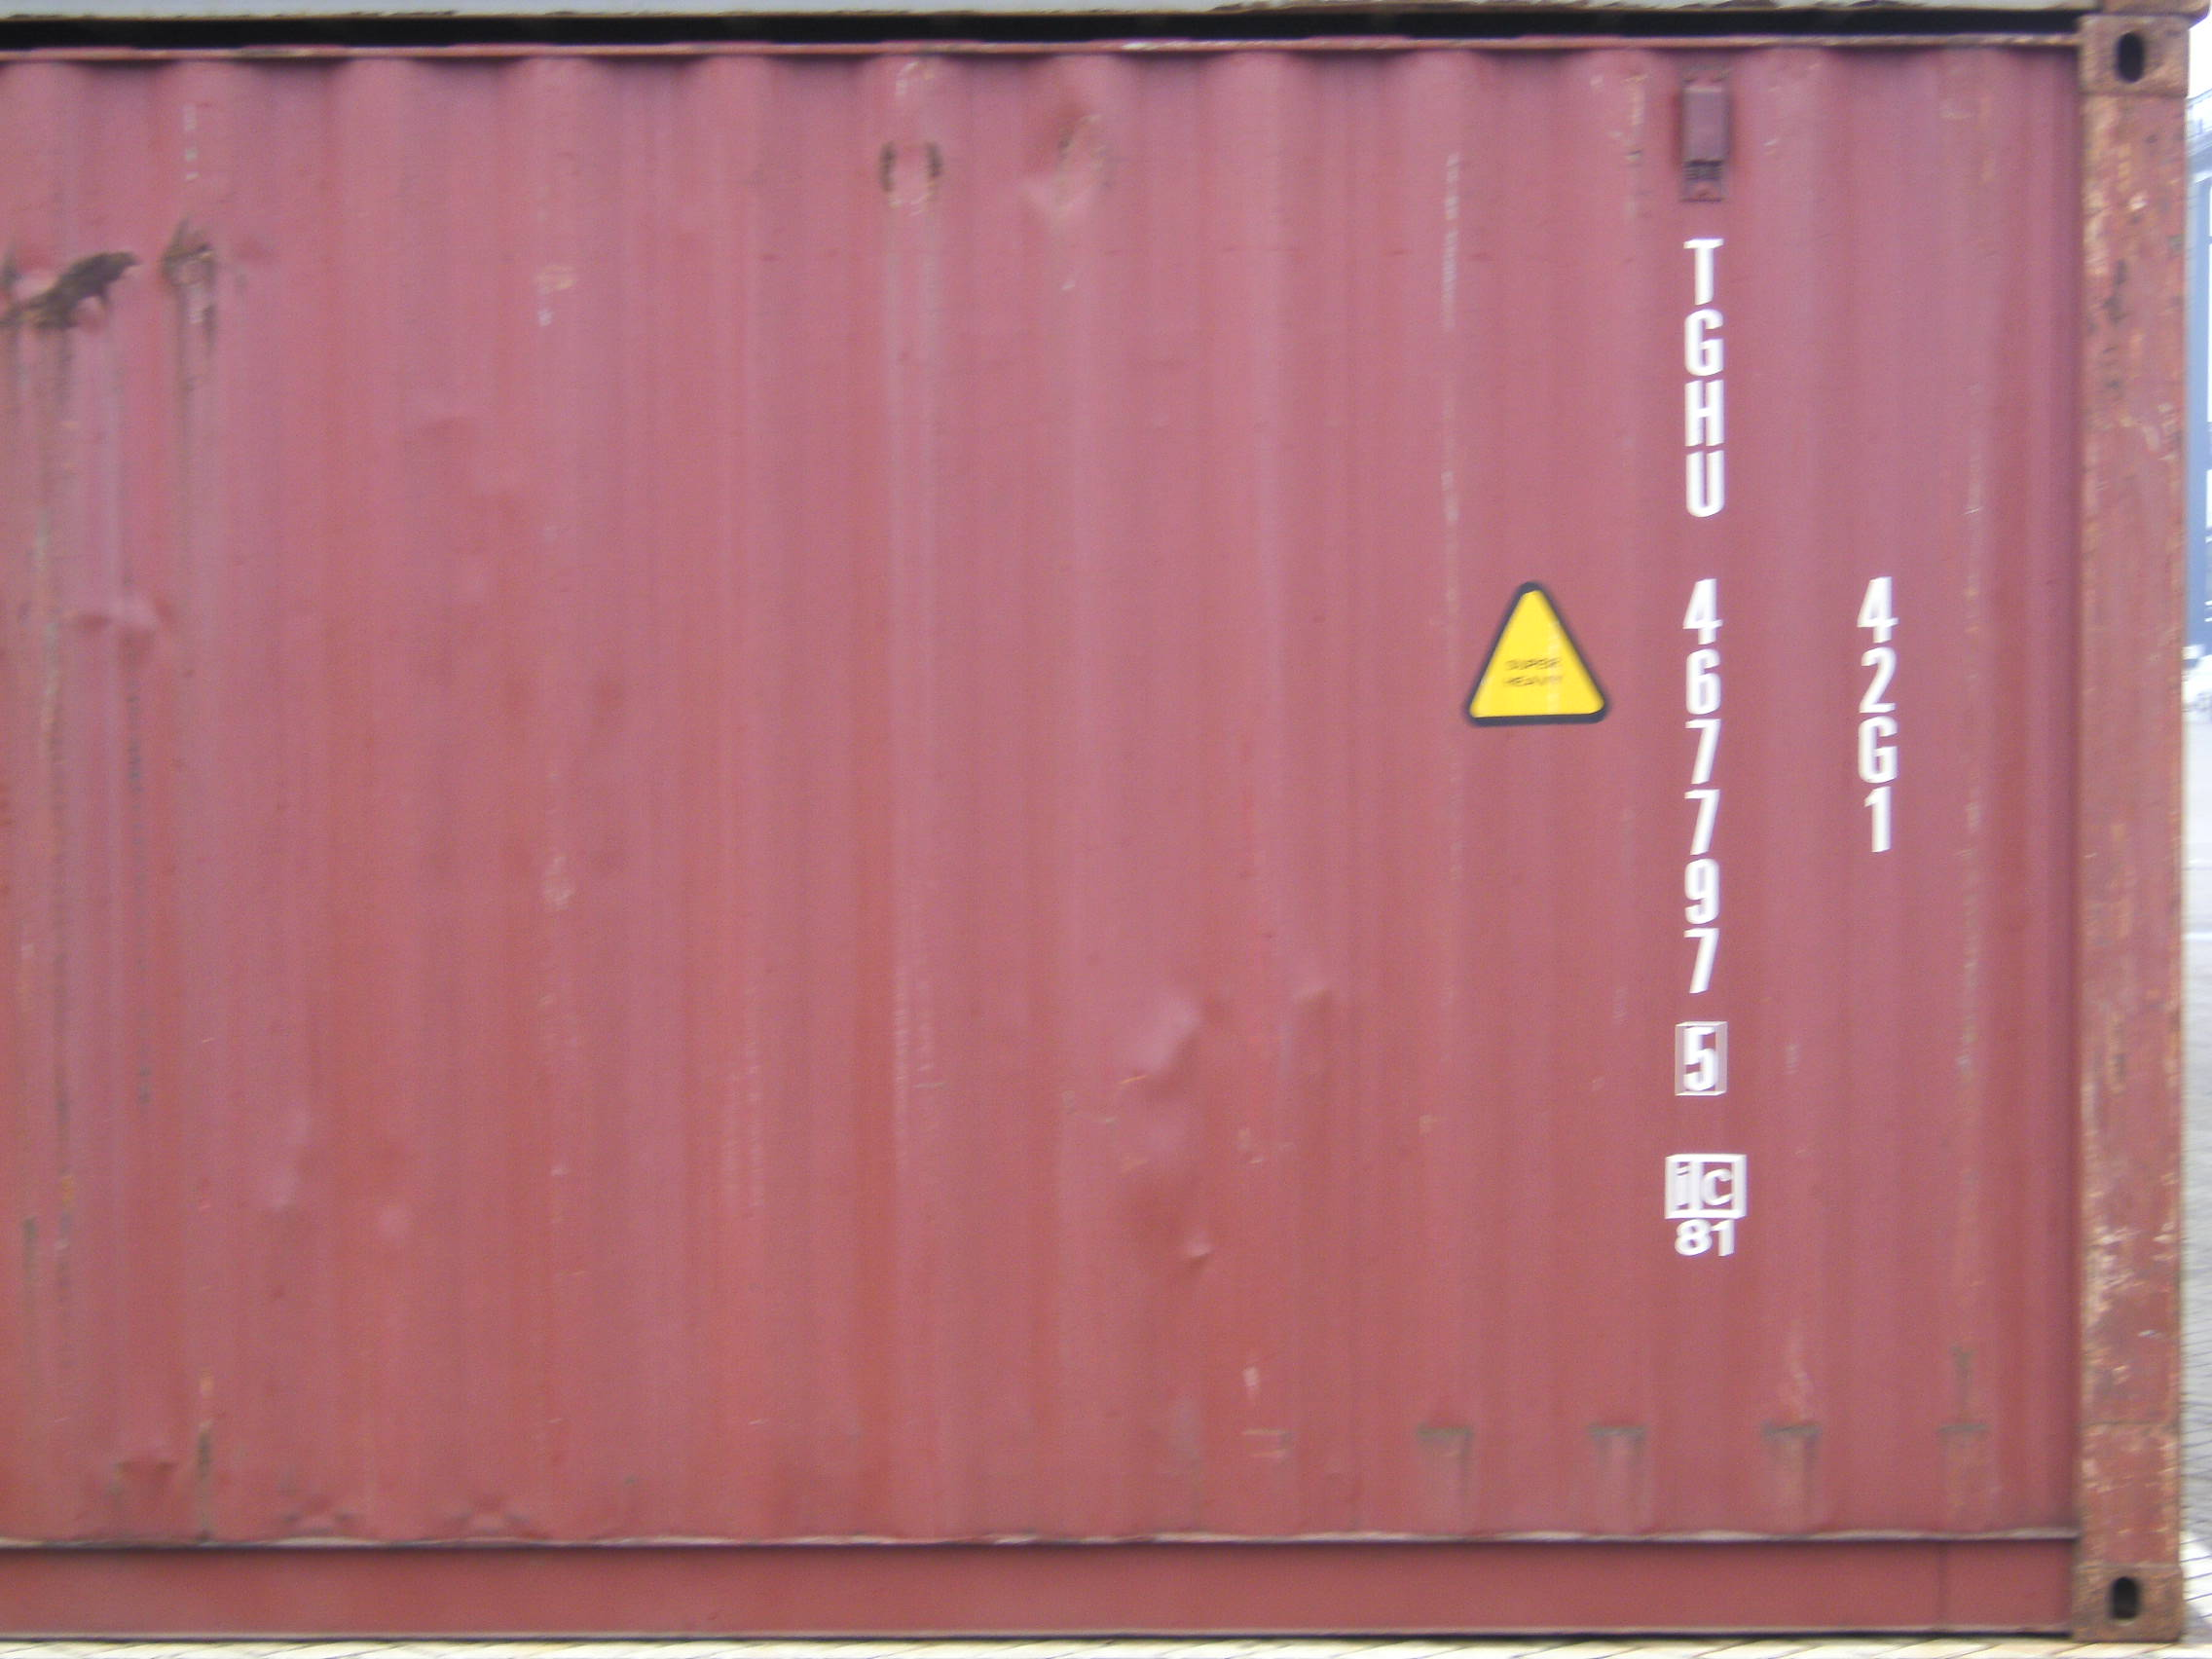container_no_door: (82, 16, 1867, 1603)
